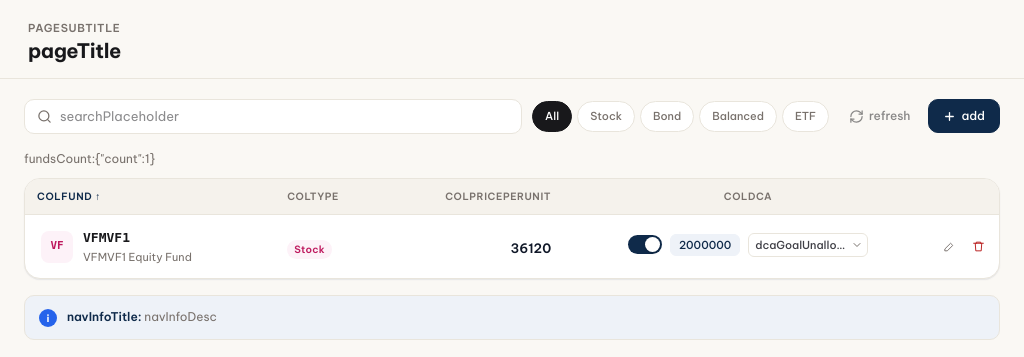
Scenario: DesktopFundLibraryView — DCA amount edit must not desync from the server (#2) › a failed edit of a saved amount leaves the row enabled at its previous amount
Click the button with test id "dca-amount-btn-f1": x=705, y=245 [670,234,740,256]
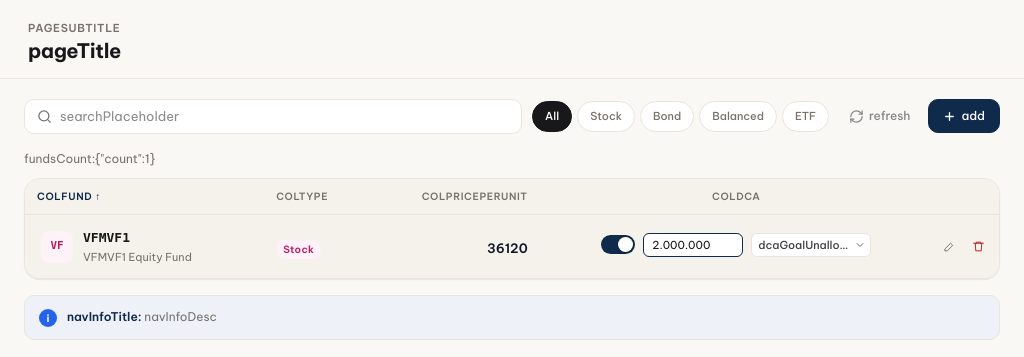
Replace the text in the field with test id "dca-amount-input-f1" with "3000000": x=693, y=245 [643,233,743,257]
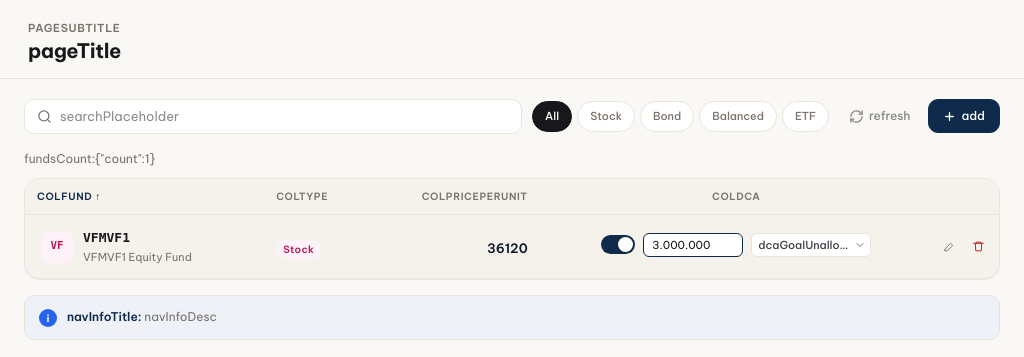
Leave the field with test id "dca-amount-input-f1", box [643,233,743,257]
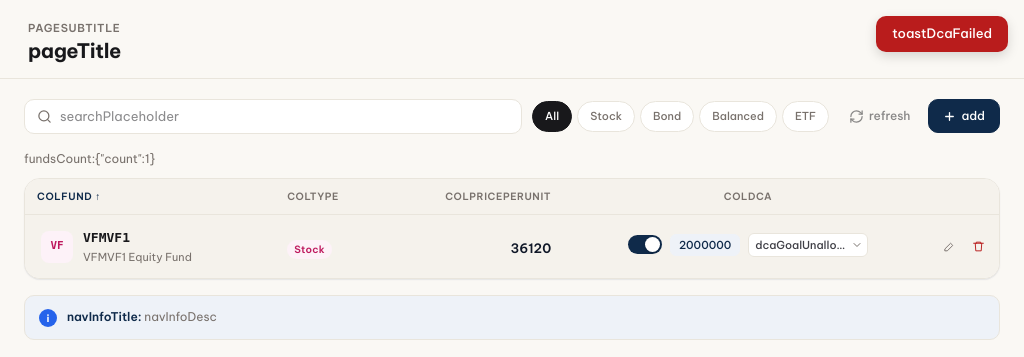
Expected: the button named "disableDca" is shown, [628,235,662,254]
Result: the button with test id "dca-amount-btn-f1" reads "2000000" at [670,234,740,256]
